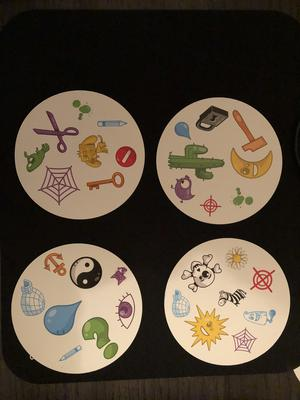ancre: (41, 249, 67, 277)
cactus: (165, 142, 226, 182)
cadenas: (195, 102, 231, 134)
chat: (109, 264, 129, 286)
chien: (74, 132, 110, 171)
cible: (247, 264, 278, 295), (195, 192, 221, 214)
ciseau: (31, 109, 80, 154)
cle: (81, 169, 126, 194)
crayon: (57, 343, 83, 365), (97, 118, 129, 130)
dinosore: (20, 142, 52, 173)
fantome: (240, 306, 280, 327)
fleur: (223, 245, 249, 271)
goutte: (42, 298, 83, 336), (173, 119, 193, 141)
igloo: (17, 276, 47, 317), (170, 287, 191, 319)
lune: (227, 145, 276, 180)
marteau: (229, 108, 270, 153)
oeuil: (113, 290, 136, 332)
oiseau: (168, 173, 197, 204)
point_interrogation: (80, 315, 120, 362)
sens_interdit: (113, 144, 138, 169)
soleil: (184, 303, 230, 352)
tache: (70, 98, 94, 123), (230, 185, 255, 208)
tete_mort: (180, 252, 223, 293)
toile: (36, 164, 82, 206), (231, 325, 259, 355)
ying_yang: (66, 252, 105, 291)
zebre: (216, 286, 250, 309)
